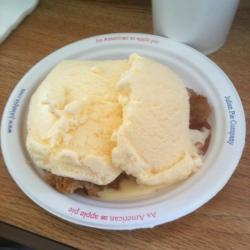icecream: (33, 62, 210, 200)
